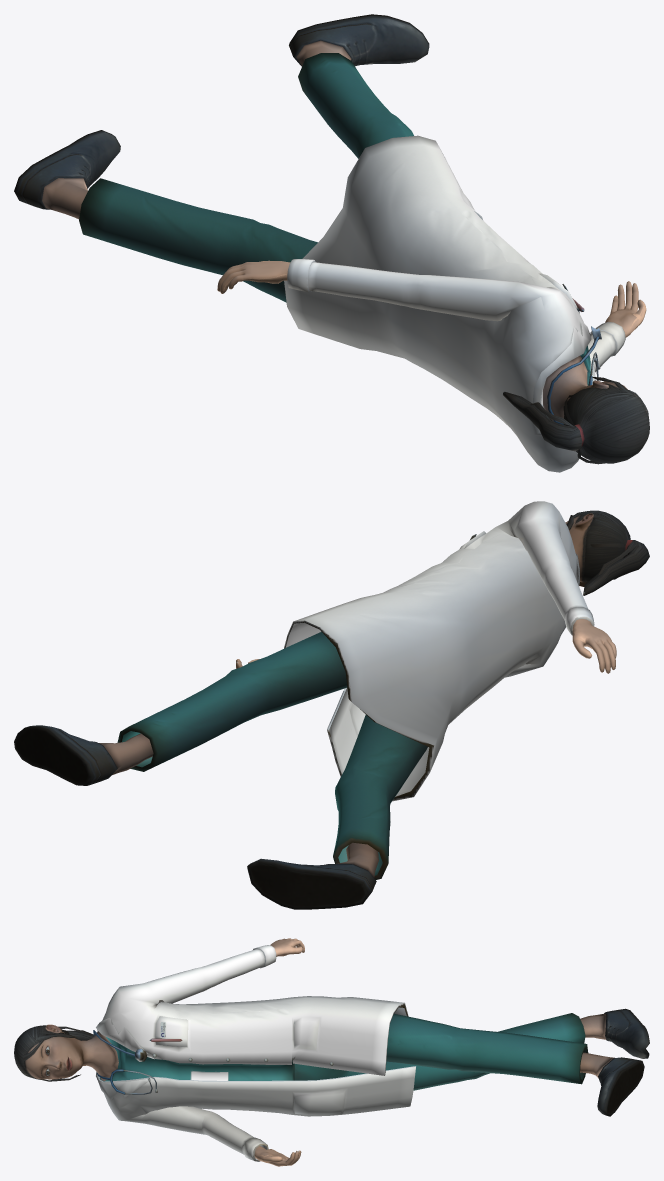
Rendered from walk.obj.
3 renders of one model, top to bottom at view 1: azimuth 30°, elevation 25°; view 2: azimuth 150°, elevation 25°; view 3: azimuth 270°, elevation 25°, orthographic. The views are drawn at different scales.
Size of the model in its own units: 0.9307 by 0.3716 by 1.7.
Materials: 1 (1 with a texture image).
